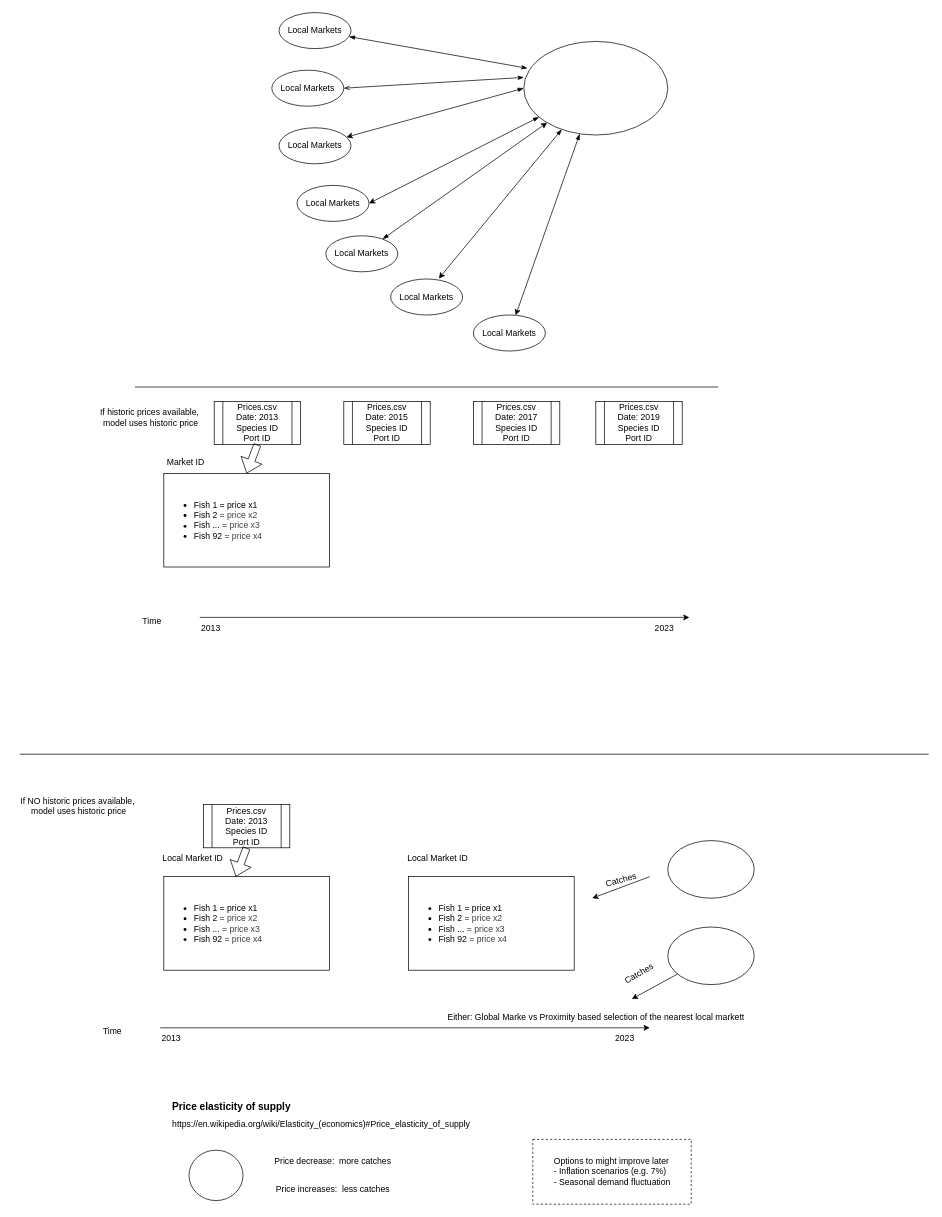
This 942x1217 diagram has some shape labels left out. The shapes that lost their labels are listed below. From the top down, each one's centre as x and y in pixels, then its label:
At point 595,88: "Global Market".
At point 710,869: "Poseidon Model".
At point 710,955: "EwE Model".
At point 215,1175: "Price Calculation".
